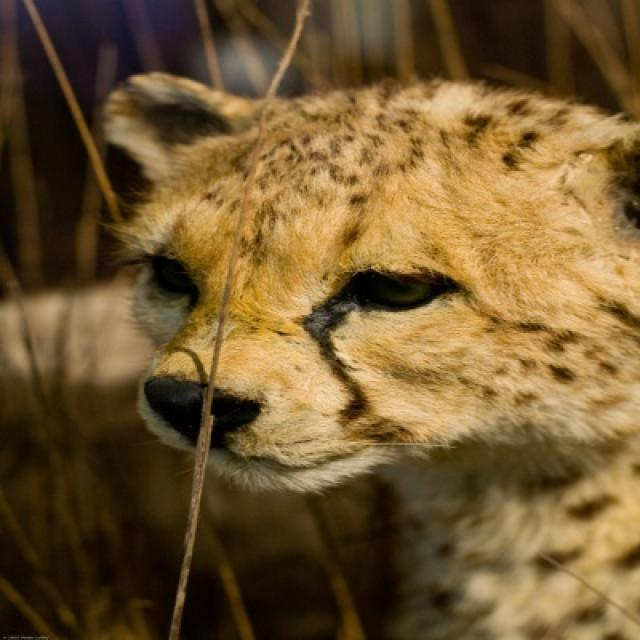Cheetah: (95, 58, 638, 638)
